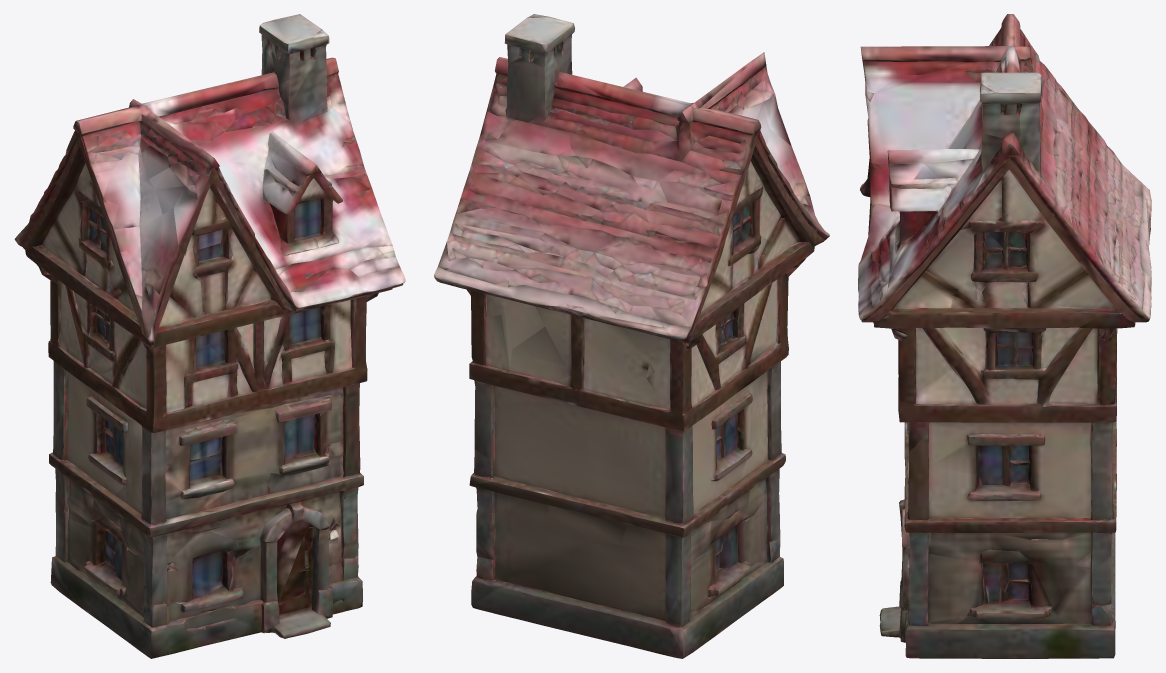
The model's file is town.glb.
The picture shows the model from 3 angles, left to right: view 1: azimuth 30°, elevation 25°; view 2: azimuth 150°, elevation 25°; view 3: azimuth 270°, elevation 25°; orthographic projection. The views are drawn at different scales.
Visible parts, largest first — view 1: Mesh; view 2: Mesh; view 3: Mesh.
Boxes of the visible parts, left/top/right/bottom form: Mesh: left=14, top=14, right=405, bottom=658; Mesh: left=434, top=14, right=829, bottom=658; Mesh: left=858, top=14, right=1151, bottom=658.
Bounding box in the file's own units: 0.9286 × 1.88 × 0.8791.
1 material, 1 textured.
